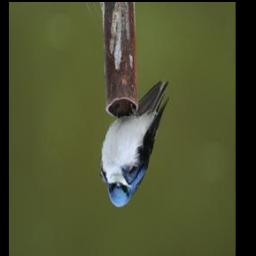Swallow: (99, 79, 171, 209)
